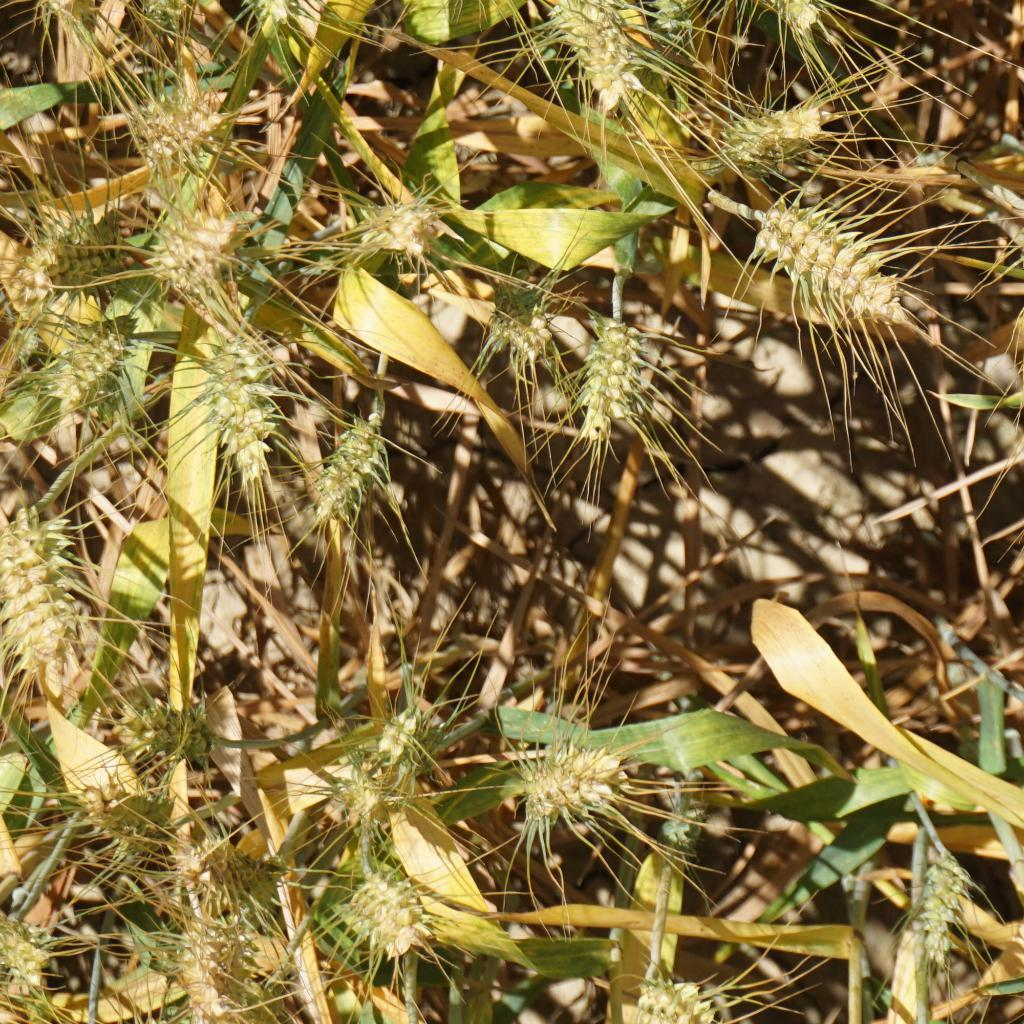0-0: (740, 203, 906, 331), (0, 491, 94, 686), (700, 87, 861, 182), (201, 335, 289, 499), (572, 310, 655, 443), (510, 737, 643, 819), (544, 0, 644, 107), (22, 192, 124, 286), (340, 864, 442, 956), (180, 908, 257, 1024), (101, 696, 214, 773), (356, 179, 447, 272), (147, 207, 243, 294), (316, 421, 396, 522), (79, 769, 176, 850), (483, 263, 557, 367), (67, 319, 148, 414), (129, 84, 221, 161), (910, 858, 982, 951), (0, 886, 67, 985), (329, 764, 404, 844), (180, 835, 259, 909), (385, 694, 448, 780), (647, 0, 716, 61), (657, 782, 715, 852), (630, 972, 699, 1024), (729, 0, 817, 36), (0, 0, 99, 31), (0, 311, 44, 365), (135, 0, 204, 33), (230, 0, 296, 22)
